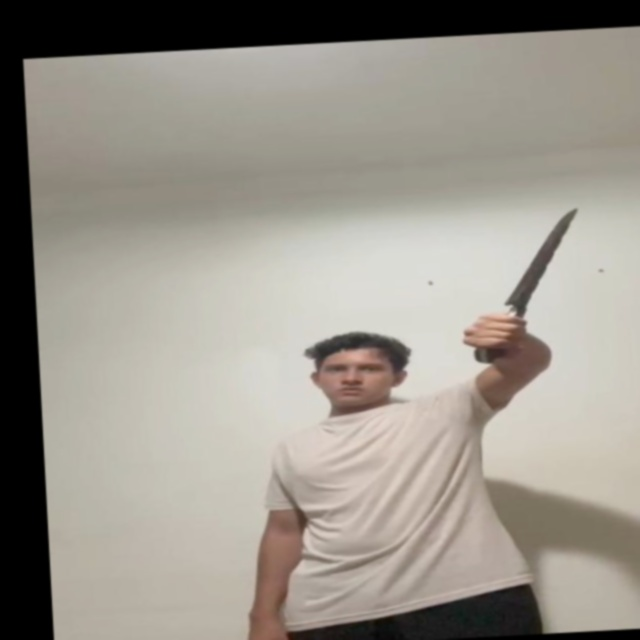Sharp-Object: (504, 209, 586, 306)
